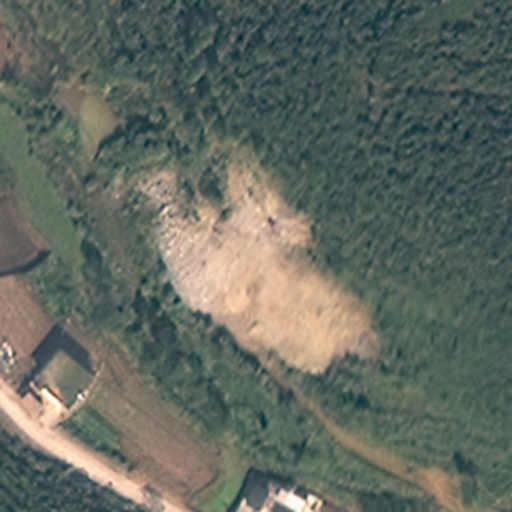landslide: (132, 157, 381, 376)
